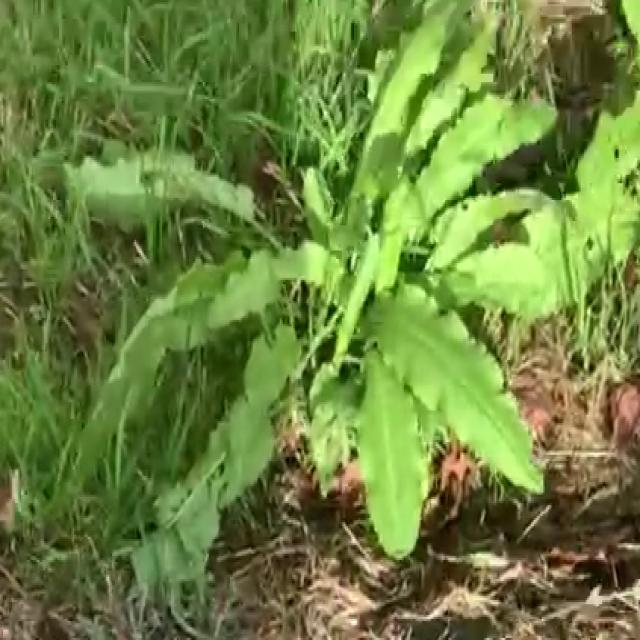organic waste: (53, 0, 593, 585)
